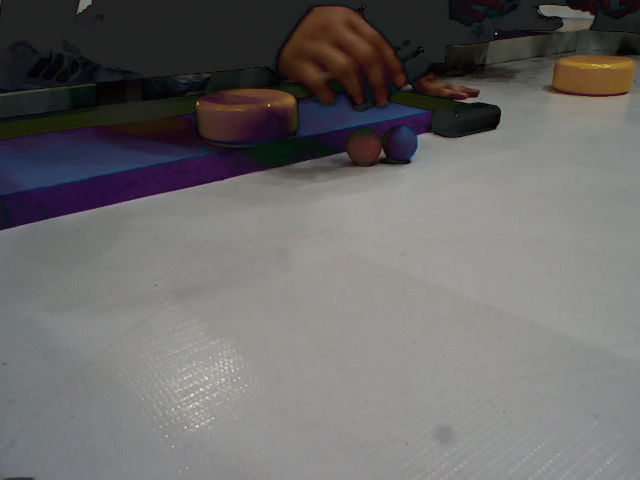black: (426, 103, 508, 139)
blue: (381, 122, 422, 163)
kuang: (1, 62, 457, 240)
red: (340, 125, 382, 167)
yellow: (189, 86, 315, 136), (542, 52, 637, 102)
